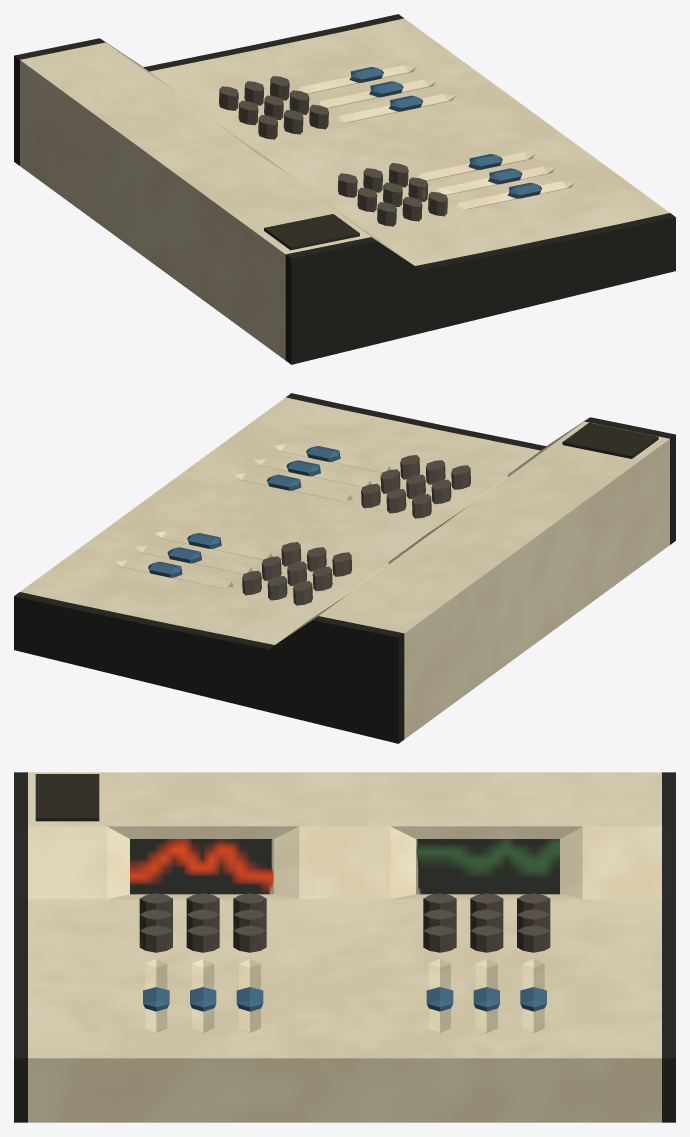
Rendered from deck.fbx.
3 renders of one model, top to bottom at view 1: azimuth 30°, elevation 25°; view 2: azimuth 150°, elevation 25°; view 3: azimuth 270°, elevation 25°, orthographic. The views are drawn at different scales.
Parts seen in each view (by area): view 1: konsola; view 2: konsola; view 3: konsola, konsola_button.014, konsola_button.03, konsola_button.01, konsola_button.06, konsola_button.02, konsola_button.05.
Boxes of the visible parts, x1=… form: konsola: x1=14, y1=14, x2=675, y2=364; konsola: x1=14, y1=393, x2=675, y2=743; konsola: x1=14, y1=772, x2=675, y2=1122; konsola_button.014: x1=426, y1=987, x2=453, y2=1011; konsola_button.03: x1=236, y1=987, x2=263, y2=1011; konsola_button.01: x1=143, y1=987, x2=169, y2=1011; konsola_button.06: x1=520, y1=987, x2=546, y2=1011; konsola_button.02: x1=190, y1=987, x2=216, y2=1011; konsola_button.05: x1=473, y1=987, x2=499, y2=1011.
Bounding box in the file's own units: 11.2 × 3.03 × 14.
1 material, 1 textured.
